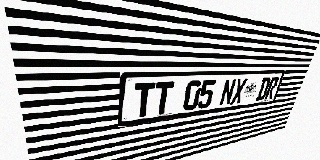0: (182, 80, 202, 111)
5: (197, 80, 216, 109)
D: (256, 77, 271, 101)
N: (219, 79, 237, 106)
R: (264, 77, 280, 100)
T: (133, 82, 156, 118), (152, 81, 174, 116)
X: (230, 78, 248, 104)
